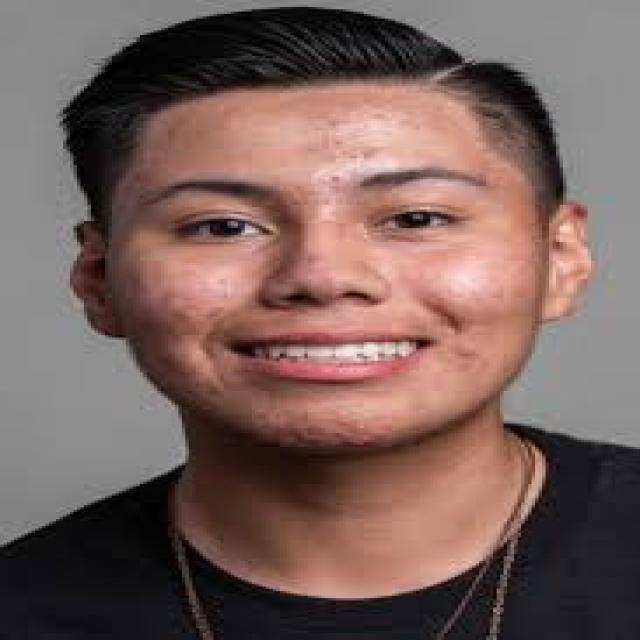Acne: (295, 109, 381, 194), (264, 407, 394, 456), (132, 286, 225, 342)
